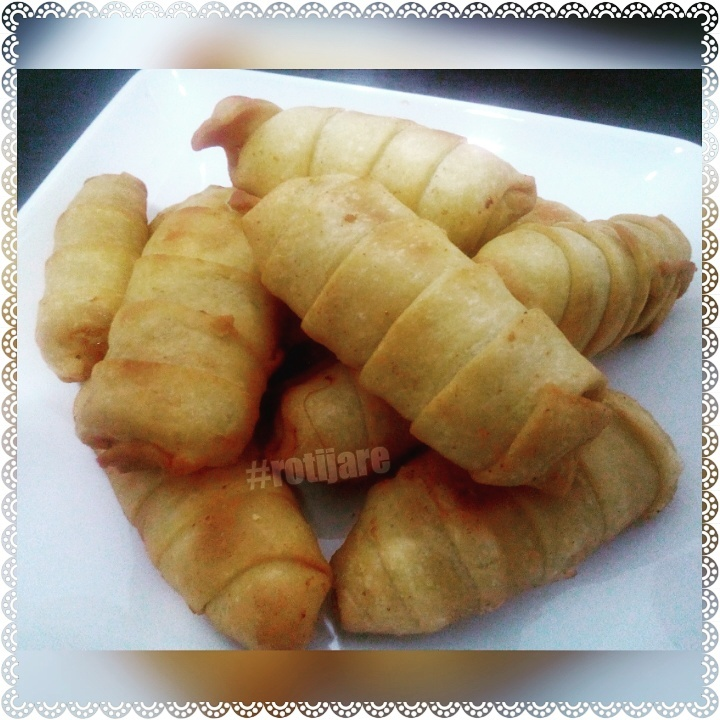pisang_molen: (242, 171, 595, 496), (72, 180, 278, 490)
